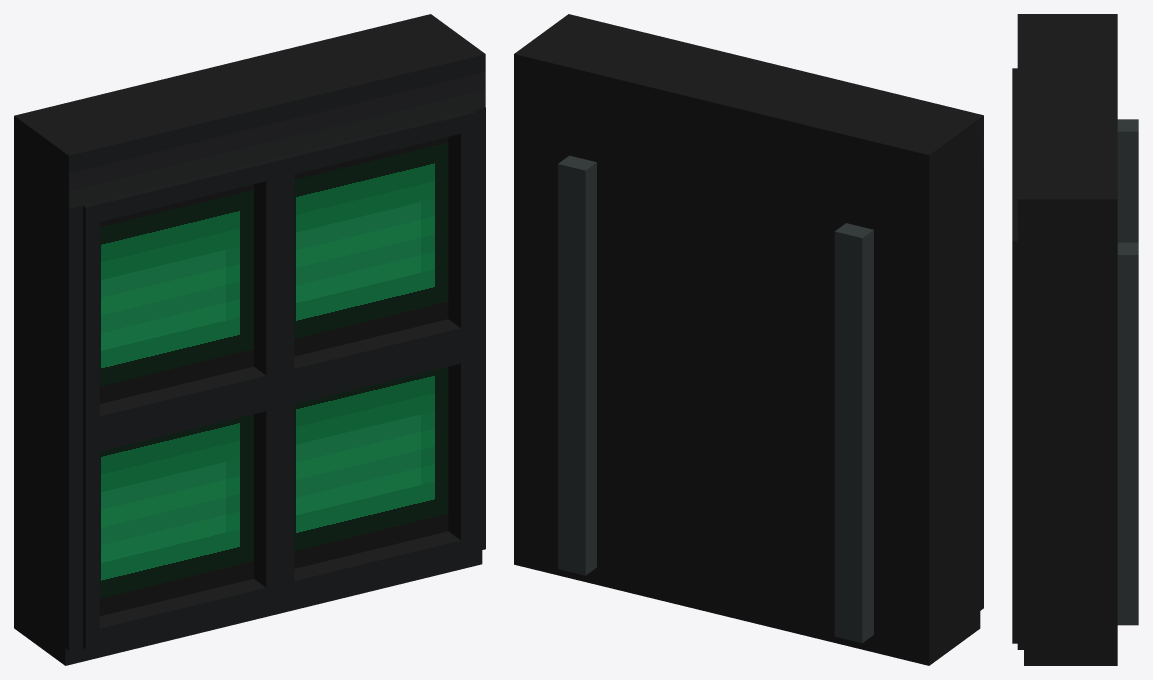
Rendered from CMU3DMultiMonitorBigCloudWest.glb.
The picture shows the model from 3 angles, left to right: view 1: azimuth 30°, elevation 25°; view 2: azimuth 150°, elevation 25°; view 3: azimuth 270°, elevation 25°; orthographic projection. The views are drawn at different scales.
Visible parts, largest first — view 1: display 1 recessed inset original face, display 2 recessed inset original face, display 4 recessed inset original face, display 3 recessed inset original face, full depth left chassis, upper horizontal casing original face, left outer steel stile, cabinet roof, upper horizontal casing, display 3 lower frame, display 4 lower frame, display 2 lower frame (+19 smaller); view 2: rear cabinet wall, left outer steel stile, upper horizontal casing, full depth left chassis, rear left mounting batten, cabinet roof, rear right mounting batten, central vertical display divider, full depth right chassis, central horizontal display divider, right outer steel stile; view 3: full depth right chassis, right outer steel stile, cabinet roof, rear right mounting batten, upper horizontal casing, rear cabinet wall, rear left mounting batten, display 2 right frame, display 4 right frame, full depth left chassis, display 2 upper frame, display 1 upper frame (+1 smaller).
Boxes of the visible parts, box(x1,y1,x2,y2) form: display 1 recessed inset original face: box(99, 184, 253, 403); display 2 recessed inset original face: box(294, 137, 448, 356); display 4 recessed inset original face: box(294, 367, 448, 568); display 3 recessed inset original face: box(99, 414, 253, 616); full depth left chassis: box(14, 112, 79, 665); upper horizontal casing original face: box(68, 54, 485, 208); left outer steel stile: box(14, 169, 82, 650); cabinet roof: box(37, 24, 467, 149); upper horizontal casing: box(14, 14, 484, 208); display 3 lower frame: box(83, 579, 280, 649); display 4 lower frame: box(280, 531, 474, 601); display 2 lower frame: box(280, 319, 474, 389); rear cabinet wall: box(528, 51, 923, 662); left outer steel stile: box(915, 168, 983, 648); upper horizontal casing: box(514, 14, 983, 207); full depth left chassis: box(915, 114, 980, 665); rear left mounting batten: box(834, 223, 873, 643); cabinet roof: box(537, 20, 965, 145); rear right mounting batten: box(558, 155, 596, 575); central vertical display divider: box(707, 154, 735, 600); full depth right chassis: box(514, 16, 577, 567); central horizontal display divider: box(528, 321, 914, 450); right outer steel stile: box(514, 107, 527, 549); full depth right chassis: box(1024, 193, 1117, 665); right outer steel stile: box(1017, 247, 1117, 649); cabinet roof: box(1024, 20, 1101, 192); rear right mounting batten: box(1117, 242, 1138, 625); upper horizontal casing: box(1018, 14, 1117, 247); rear cabinet wall: box(1101, 20, 1117, 192); rear left mounting batten: box(1117, 119, 1138, 242); display 2 right frame: box(1012, 257, 1017, 434); display 4 right frame: box(1012, 466, 1017, 627); full depth left chassis: box(1024, 14, 1117, 20); display 2 upper frame: box(1012, 155, 1017, 257); display 1 upper frame: box(1012, 68, 1017, 154).
Size of the model in its own units: 0.9375 by 1.1 by 0.27.
Materials: 6 (3 with a texture image).
